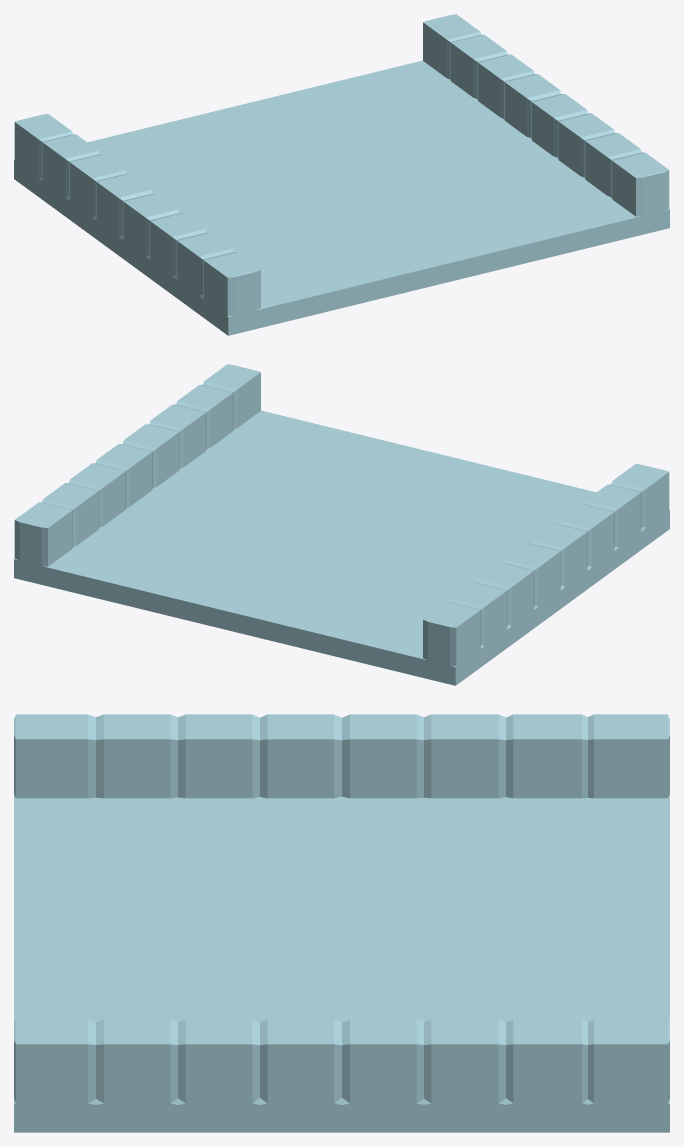
The model's file is pistaReta (2).fbx.
The picture shows the model from 3 angles, top to bottom: view 1: azimuth 30°, elevation 25°; view 2: azimuth 150°, elevation 25°; view 3: azimuth 270°, elevation 25°; orthographic projection. The views are drawn at different scales.
Parts seen in each view (by area): view 1: pista reta; view 2: pista reta; view 3: pista reta.
Part boxes in pixels (x1=…): pista reta: x1=14, y1=14, x2=669, y2=335; pista reta: x1=14, y1=364, x2=669, y2=685; pista reta: x1=14, y1=714, x2=669, y2=1132.
Bounding box in the file's own units: 1188 × 148 × 998.
